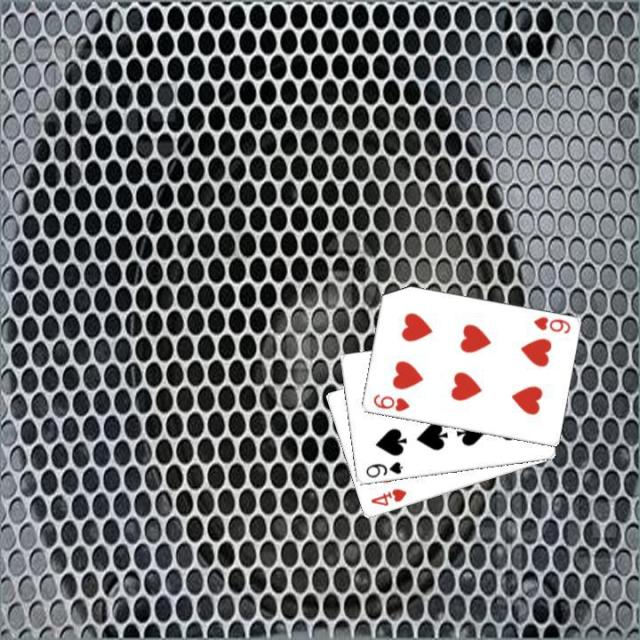4H: (366, 484, 408, 508)
6H: (369, 391, 411, 414), (529, 313, 571, 336)
9S: (362, 458, 404, 480)
